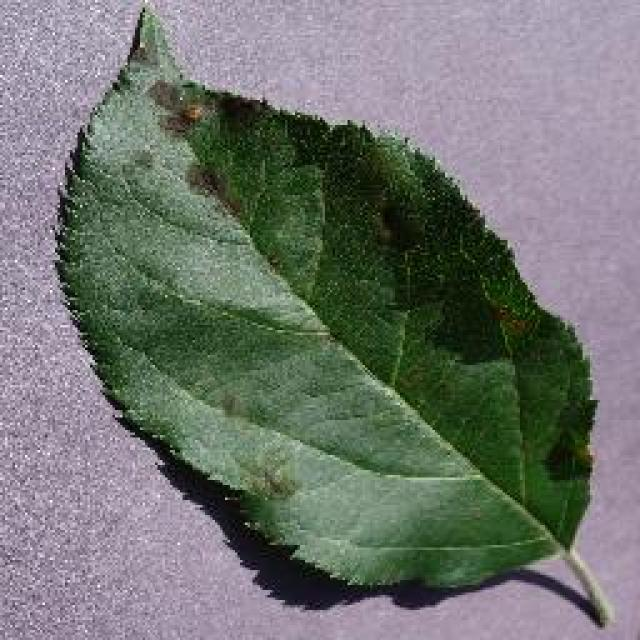apple scab disease: (50, 0, 612, 625)
